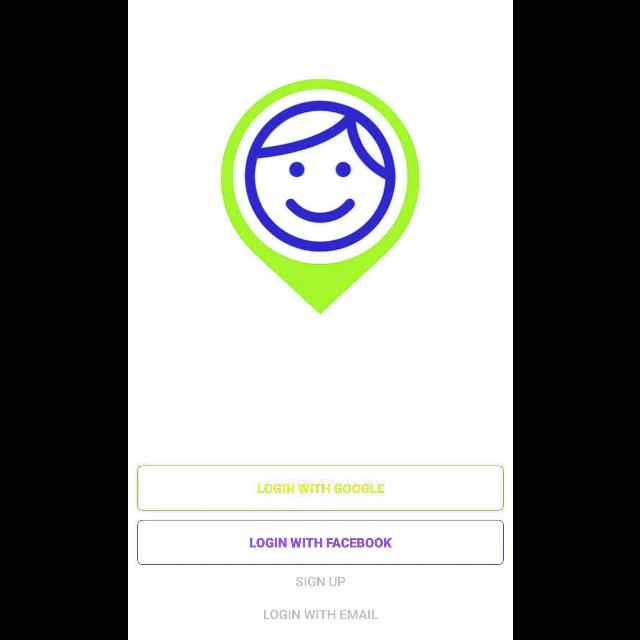image: (220, 79, 420, 315)
text: (262, 610, 378, 620), (296, 576, 344, 586)
textbutton: (136, 466, 504, 510), (136, 520, 504, 564)
